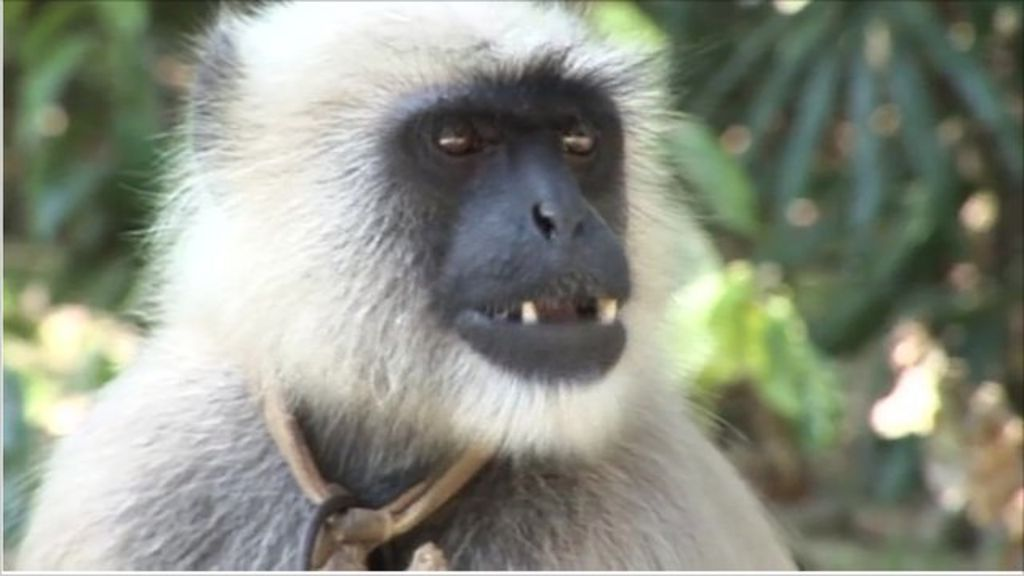monkey: (12, 4, 780, 576)
